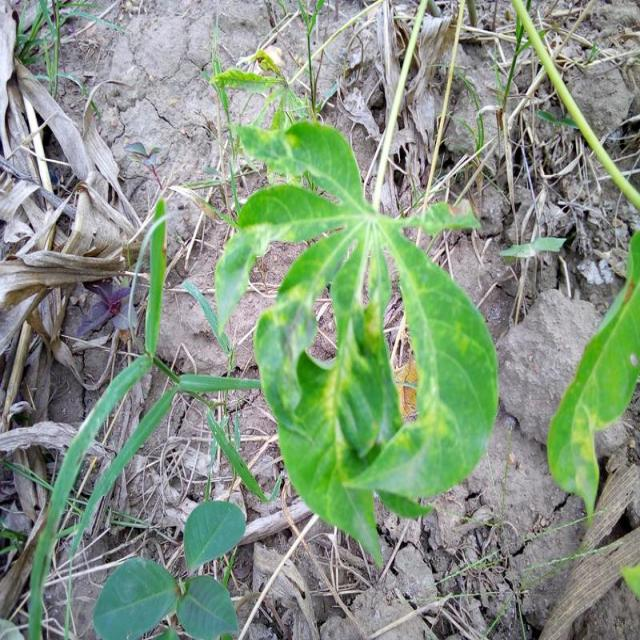cassava leaf: (214, 115, 501, 568), (546, 228, 640, 528), (92, 555, 180, 638), (183, 499, 247, 574)
